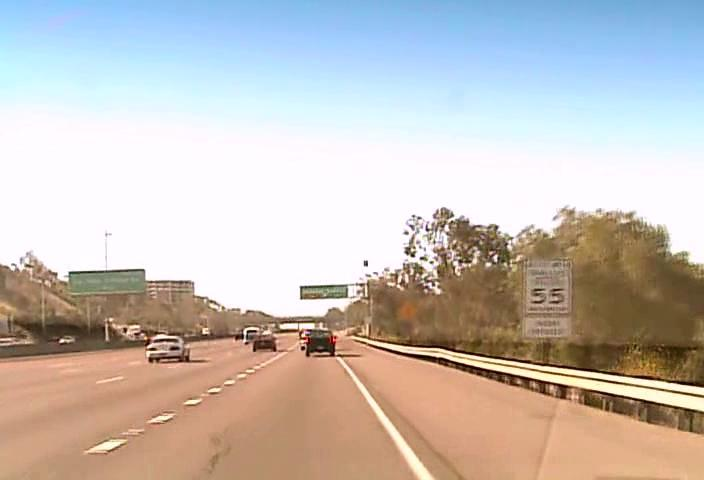truckSpeedLimit55: (523, 254, 573, 315)
